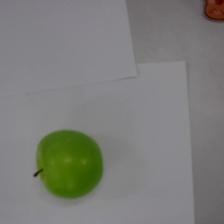green: (31, 127, 106, 201)
